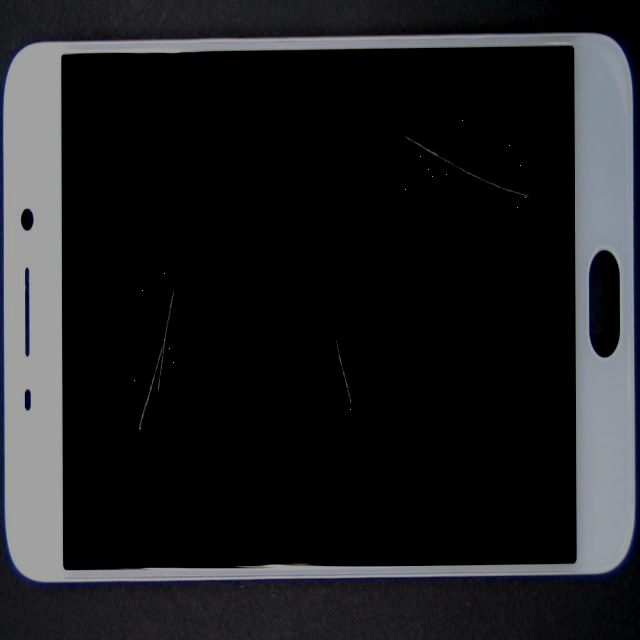scratch: (152, 187, 505, 611), (256, 115, 640, 345), (104, 96, 250, 449)
